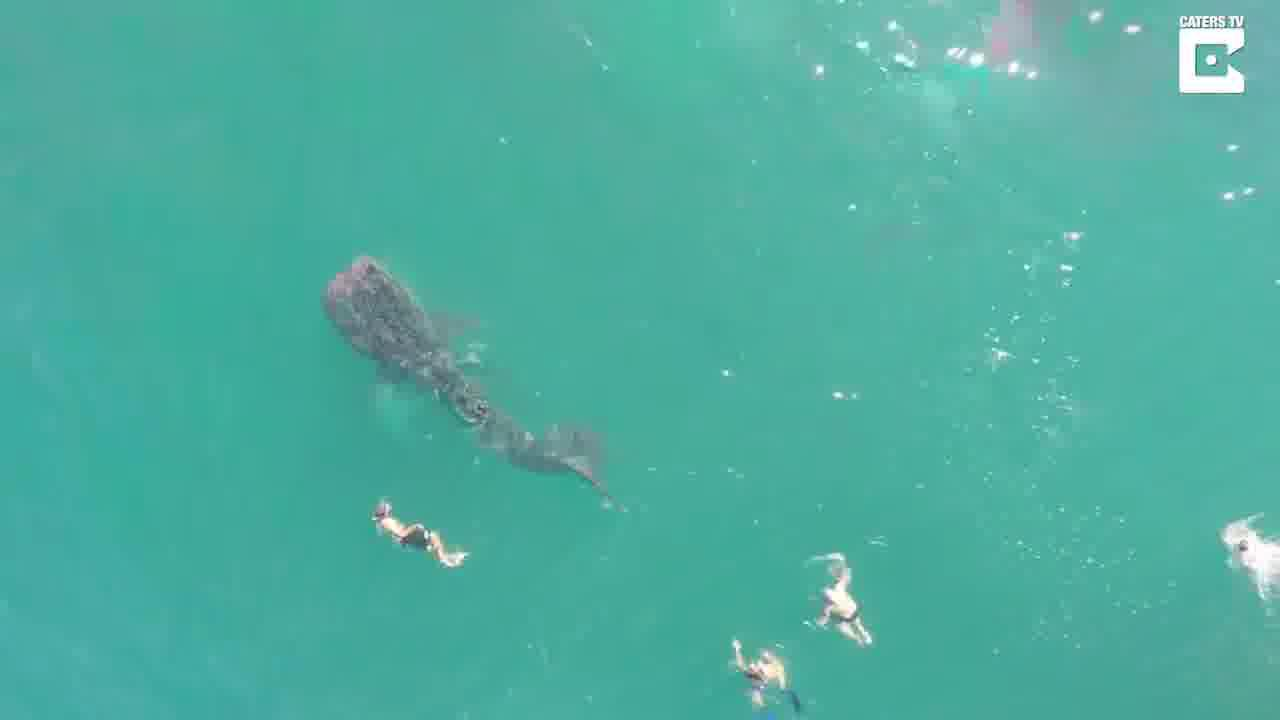swimmer: (365, 494, 475, 573), (808, 555, 873, 648), (732, 644, 801, 714)
